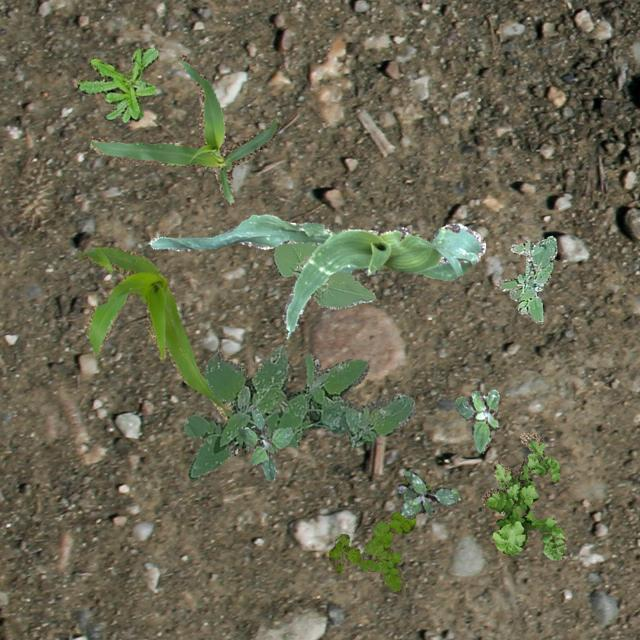crop: (148, 214, 484, 338), (87, 54, 280, 204), (76, 246, 232, 422), (272, 240, 374, 308)
weed: (182, 342, 414, 478), (480, 432, 566, 560), (328, 508, 414, 594), (76, 46, 158, 122), (496, 235, 556, 322), (236, 406, 292, 479), (396, 471, 459, 516), (454, 388, 498, 452)
